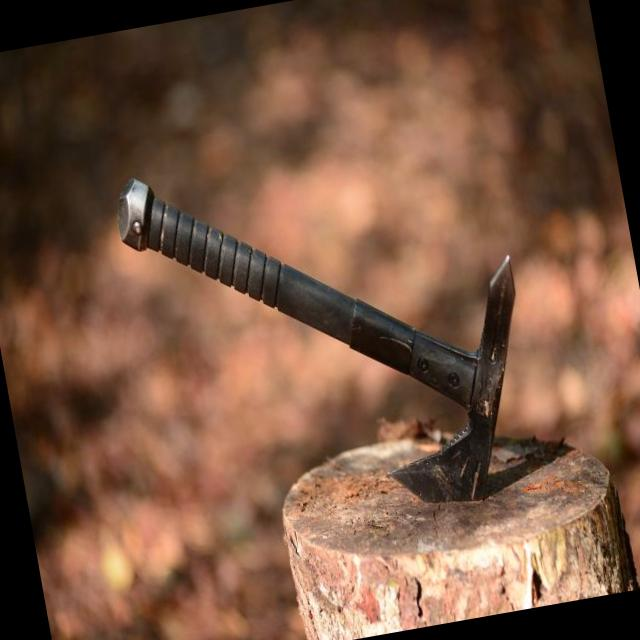Axe: (117, 178, 514, 502)
